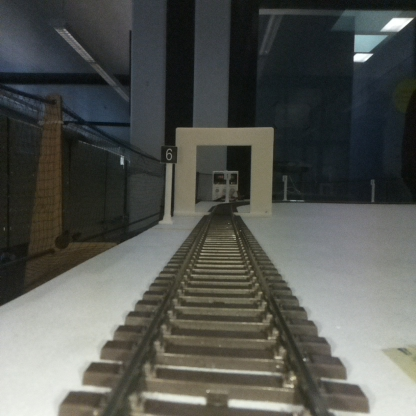black-info-6: (160, 146, 177, 224)
